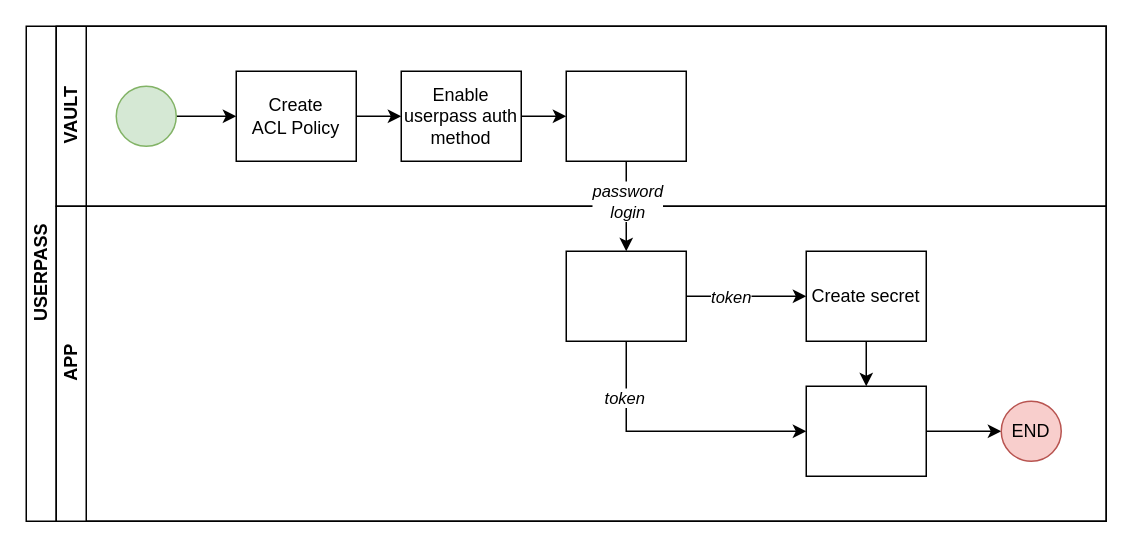
Some shapes in this 1133 by 548 pixel diagram are drawn without their labels. Each missing label, with the centre of its shape:
Create user for userpass auth add ACL policy: the point at 625,115
Login via userpass: the point at 625,295
Read secret: the point at 865,430
START: the point at 145,115
